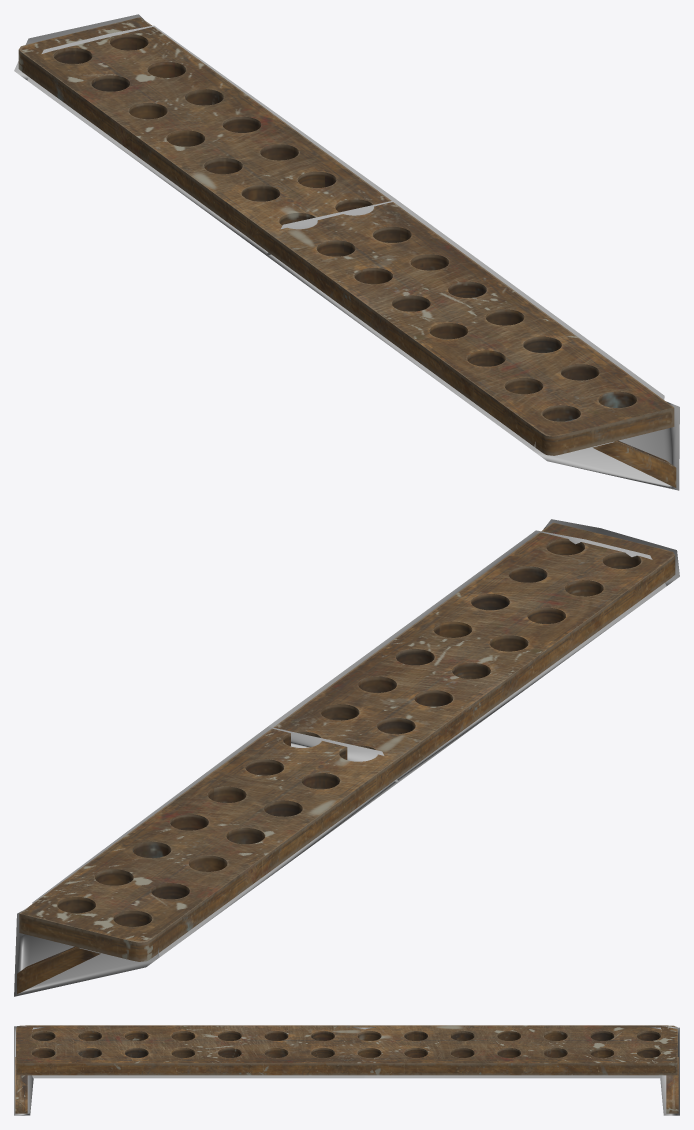
The model's file is SM_Tool_Shelf.gltf.
The picture shows the model from 3 angles, top to bottom: view 1: azimuth 30°, elevation 25°; view 2: azimuth 150°, elevation 25°; view 3: azimuth 270°, elevation 25°; orthographic projection. The views are drawn at different scales.
Parts seen in each view (by area): view 1: SM_Tool_Shelf_LOD0, SM_Tool_Shelf_ConvexHulls; view 2: SM_Tool_Shelf_LOD0, SM_Tool_Shelf_ConvexHulls; view 3: SM_Tool_Shelf_LOD0, SM_Tool_Shelf_ConvexHulls.
Boxes of the visible parts, x1,y1,x2,y2 form: SM_Tool_Shelf_LOD0: (18,17,676,487); SM_Tool_Shelf_ConvexHulls: (14,14,679,490); SM_Tool_Shelf_LOD0: (17,522,675,993); SM_Tool_Shelf_ConvexHulls: (14,519,679,996); SM_Tool_Shelf_LOD0: (15,1025,678,1113); SM_Tool_Shelf_ConvexHulls: (14,1026,679,1115).
Size of what is drawn, in the model's own units: 0.2866 by 0.1813 by 2.04.
